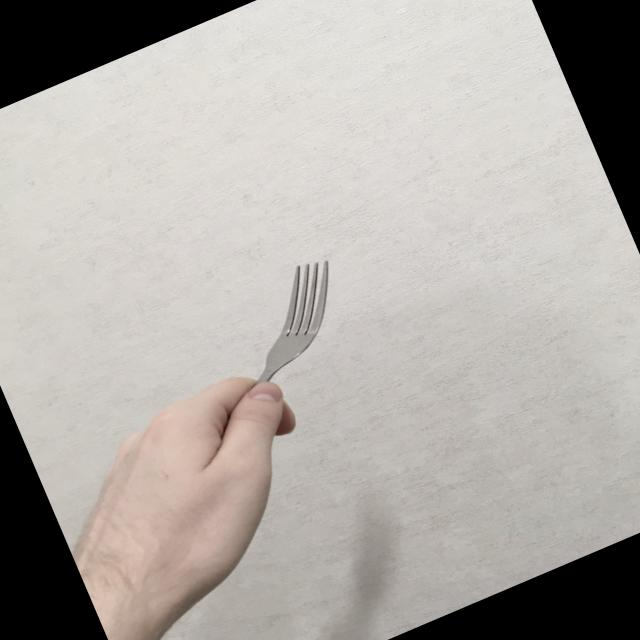fork: (152, 252, 388, 476)
